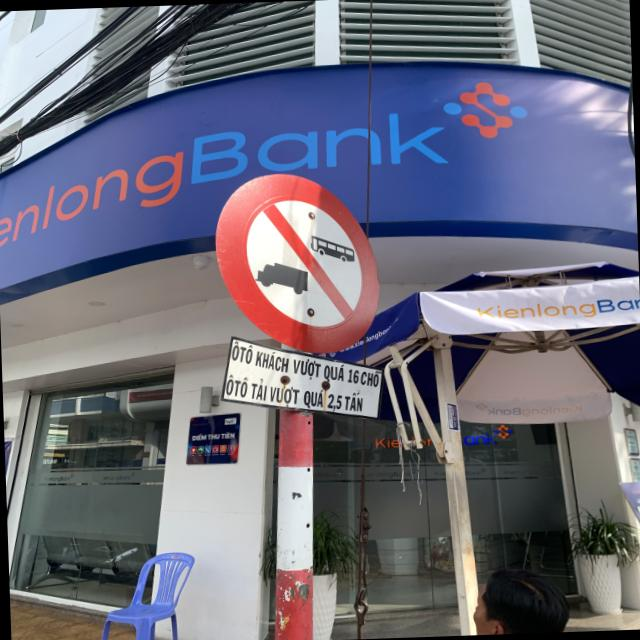Cam_XeTai_XeKhach: (212, 170, 384, 358)
